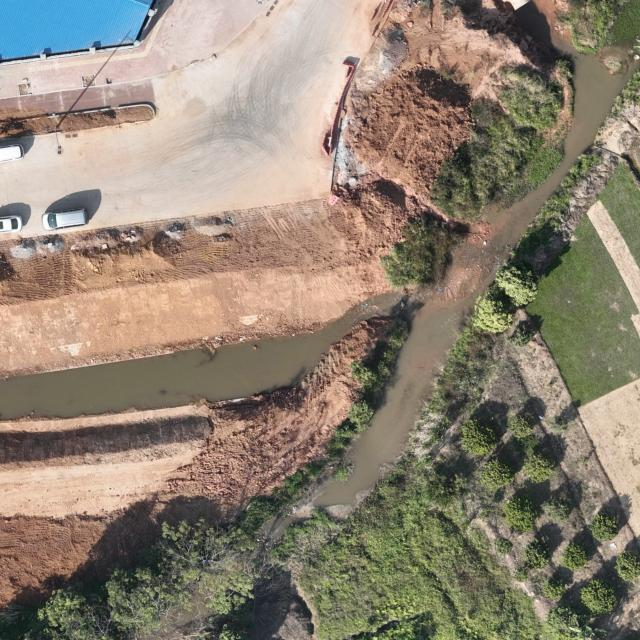Tree: (157, 516, 285, 614), (104, 565, 241, 640), (36, 587, 112, 640), (494, 264, 538, 308), (469, 292, 514, 334), (580, 578, 618, 616), (459, 418, 498, 455), (475, 459, 516, 490), (504, 494, 536, 532), (522, 452, 558, 484), (547, 603, 585, 630), (587, 512, 620, 543), (540, 494, 575, 522), (524, 538, 553, 570), (562, 542, 590, 569), (615, 552, 640, 582), (508, 414, 535, 439), (543, 578, 566, 600)
